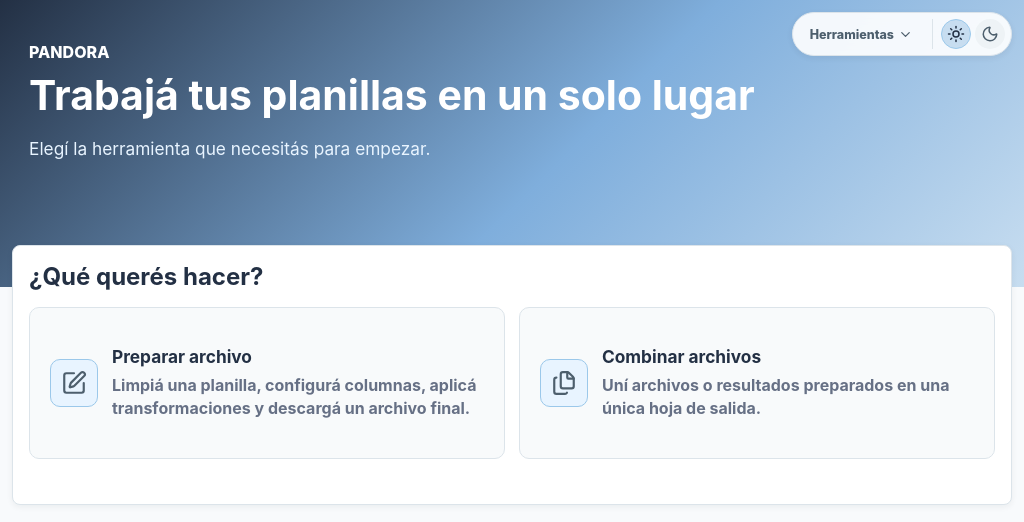
Test: App combine basket wiring › renders the compact toolbar with tools menu and icon-only appearance controls
Click the button "Herramientas": (861, 34) [799,19,924,49]
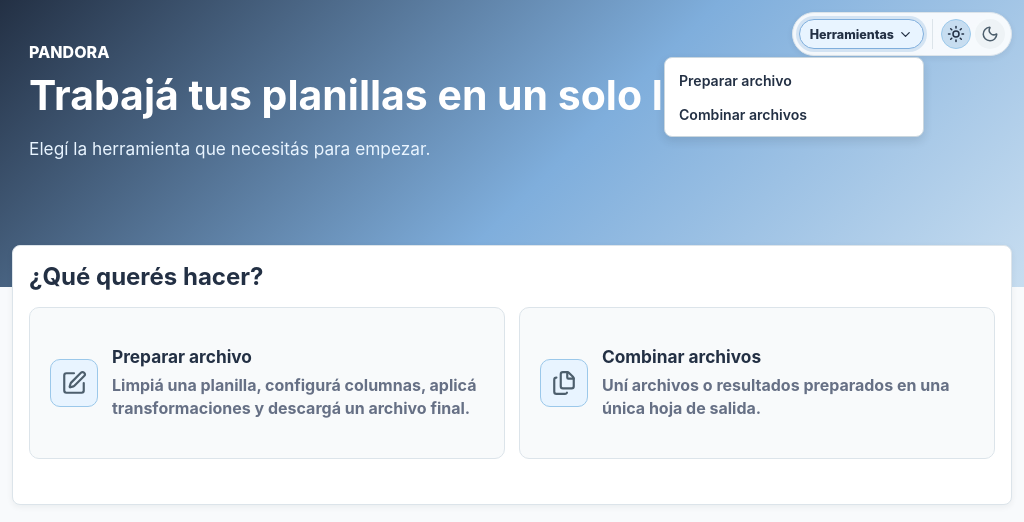
Check: the button named "Activar modo claro" is shown, box [941,19,971,49]
Check: the menu item "Preparar archivo" is shown, box [670,63,918,97]
Check: the menu item "Combinar archivos" is shown, box [670,97,918,131]
